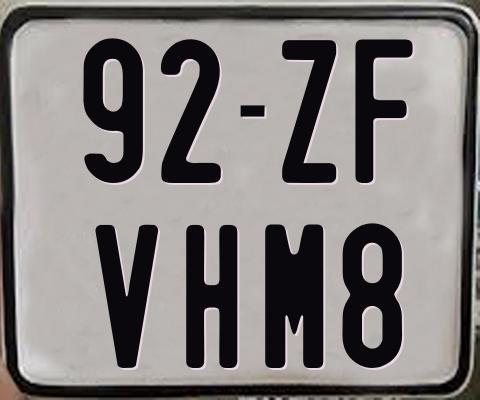2: (158, 37, 220, 182)
8: (341, 223, 405, 368)
9: (82, 38, 143, 184)
F: (354, 38, 418, 183)
H: (186, 224, 239, 368)
M: (264, 222, 323, 368)
V: (95, 224, 164, 370)
Z: (282, 40, 339, 183)
